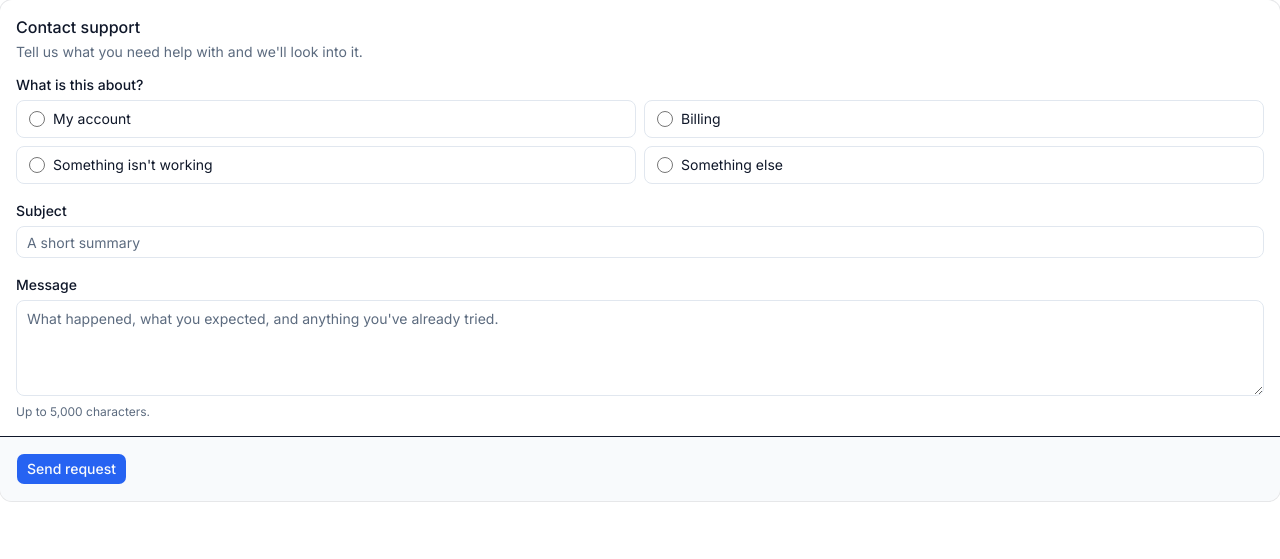
Scenario: SupportRequestForm – sending › confirms without naming the request when the server could not echo it
The image size is (1280, 559).
Click the radio button labelled "Billing". click: (665, 119)
box: [657, 111, 673, 127]
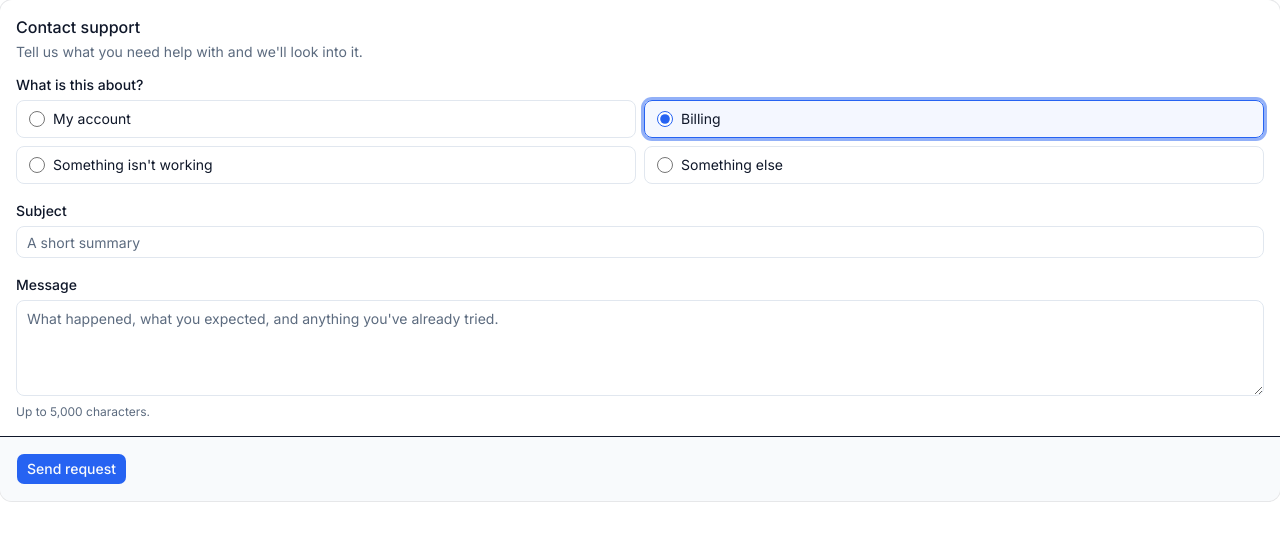
Type "Charged twice" into the field labelled "Subject". click: (640, 242)
box: [16, 226, 1264, 258]
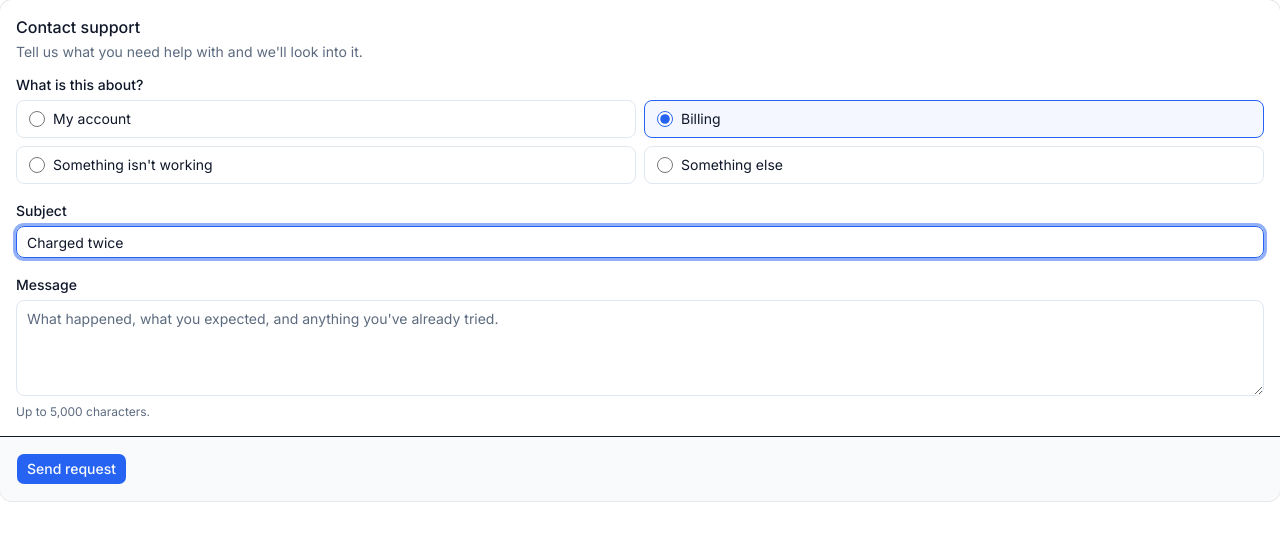
Replace the text in the text box labelled "Message" with "I see two charges.". click: (640, 348)
box: [16, 300, 1264, 396]
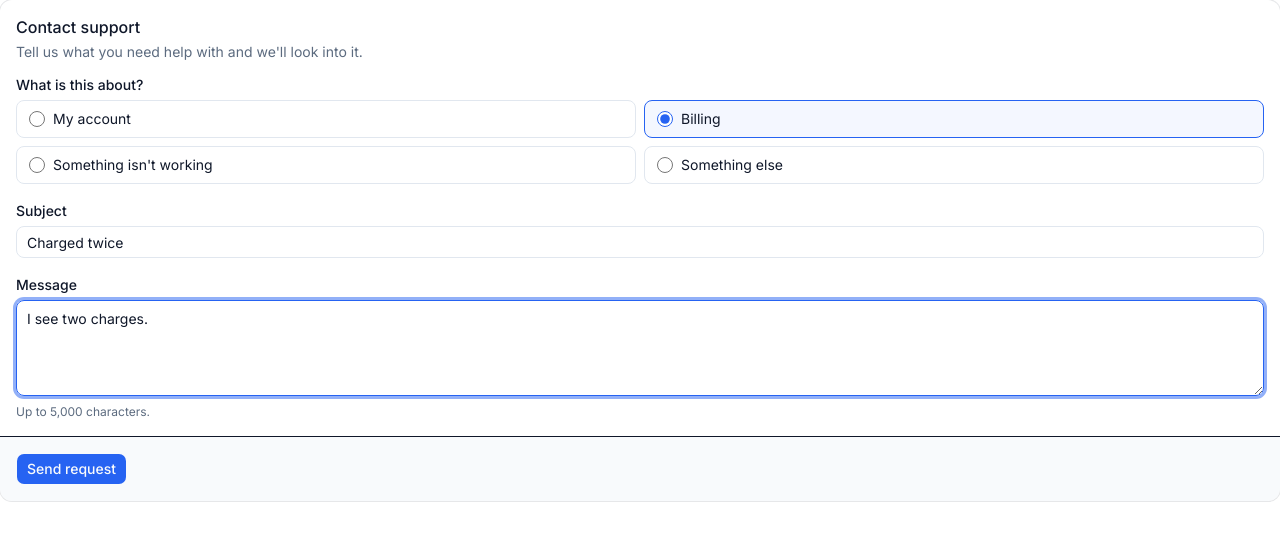
Click the button "Send request". click: (72, 469)
box: [16, 453, 127, 485]
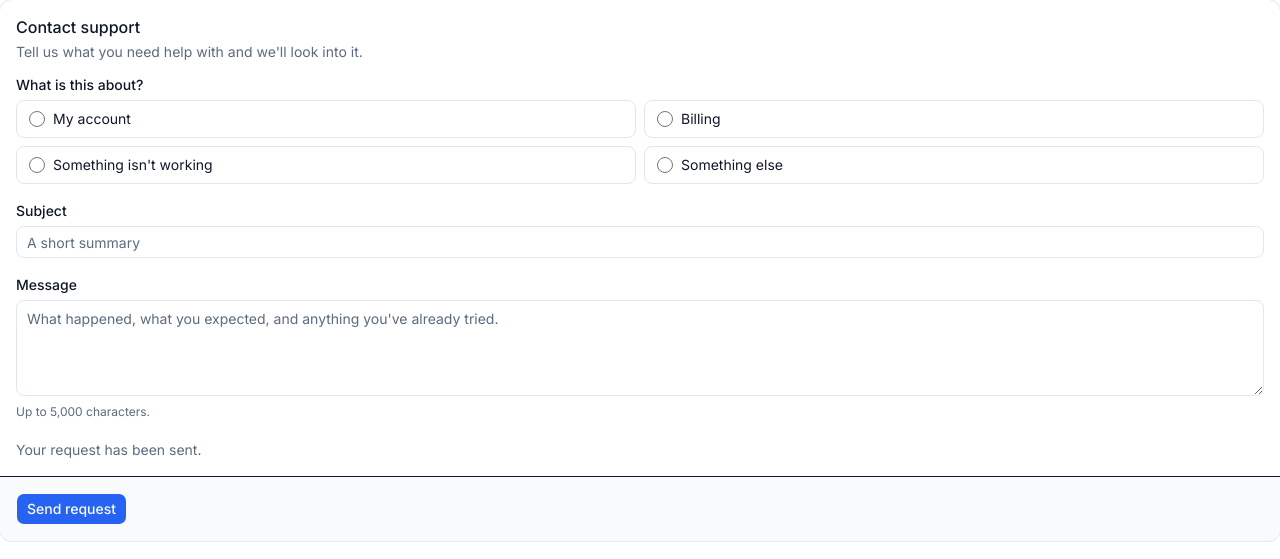
Check: the message reads "Your request has been sent.", box [16, 441, 202, 458]
